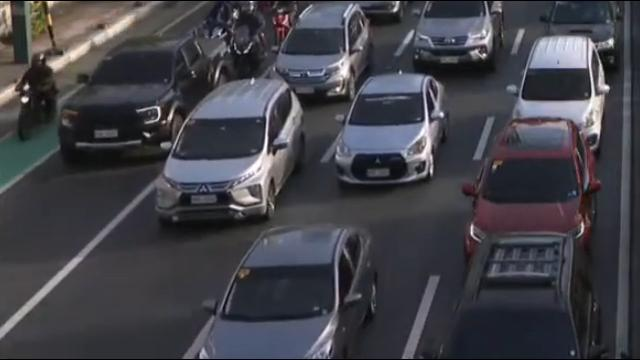car: (186, 222, 375, 359), (424, 238, 605, 360), (153, 79, 308, 221), (60, 35, 231, 158), (467, 119, 598, 261), (334, 74, 449, 187), (513, 36, 604, 155), (267, 3, 374, 98), (414, 0, 504, 71), (540, 0, 622, 74)
motorcycle: (10, 53, 61, 140), (228, 0, 264, 75), (268, 0, 297, 54)
